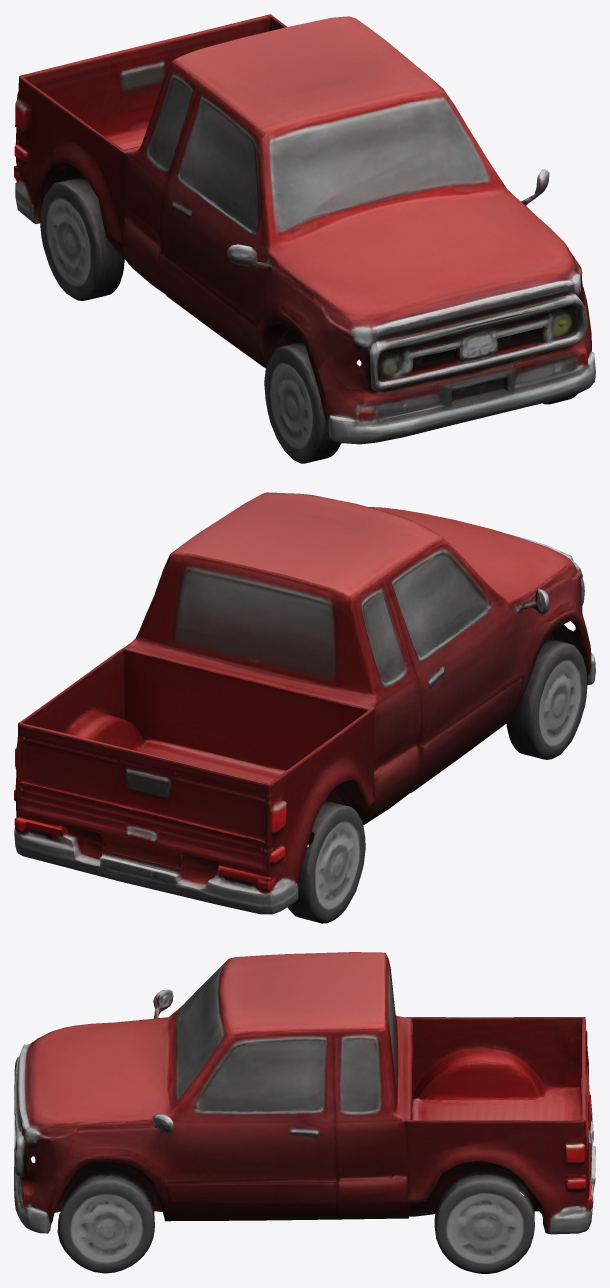
The model's file is truck_tex.glb.
3 views of the same model, one above another, from view 1: azimuth 30°, elevation 25°; view 2: azimuth 150°, elevation 25°; view 3: azimuth 270°, elevation 25° (orthographic). The views are drawn at different scales.
Visible parts, largest first — view 1: truck; view 2: truck; view 3: truck.
Boxes of the visible parts, x1=… form: truck: x1=14, y1=14, x2=595, y2=463; truck: x1=14, y1=492, x2=595, y2=923; truck: x1=14, y1=952, x2=595, y2=1273.
Size of the model in its own units: 1.22 by 0.9993 by 2.25.
Materials: 1 (1 with a texture image).
